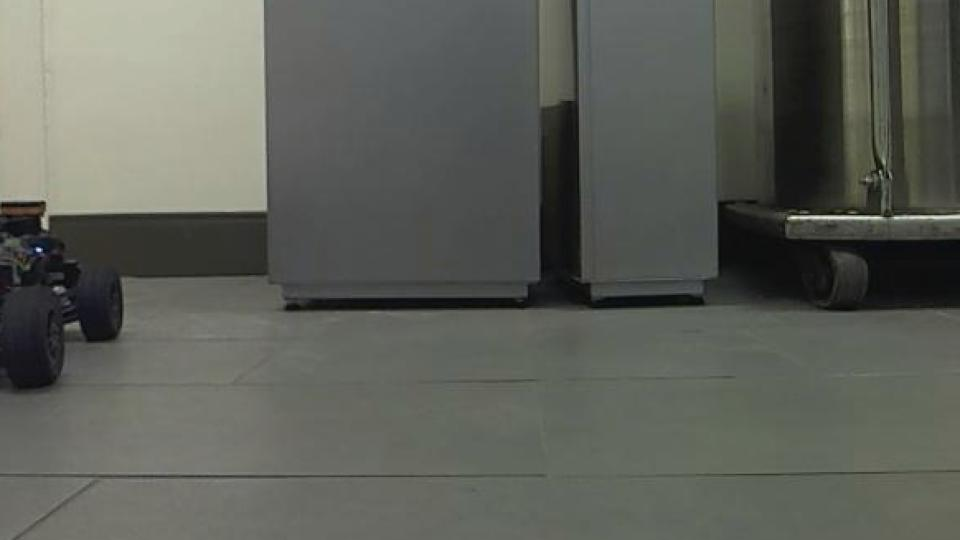car: (0, 147, 125, 392)
